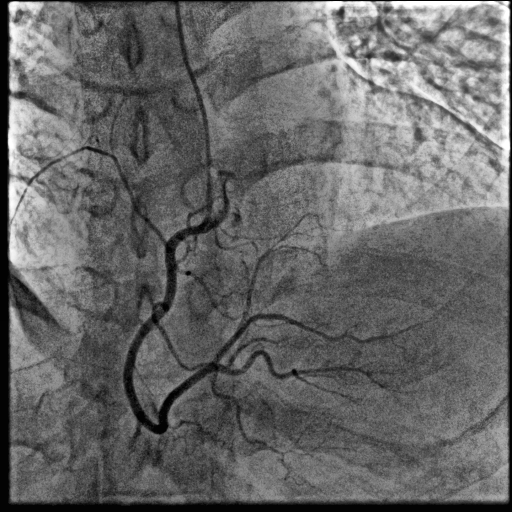pborca: (214, 314, 391, 363)
pda: (218, 350, 356, 379)
rca: (122, 222, 219, 434)
